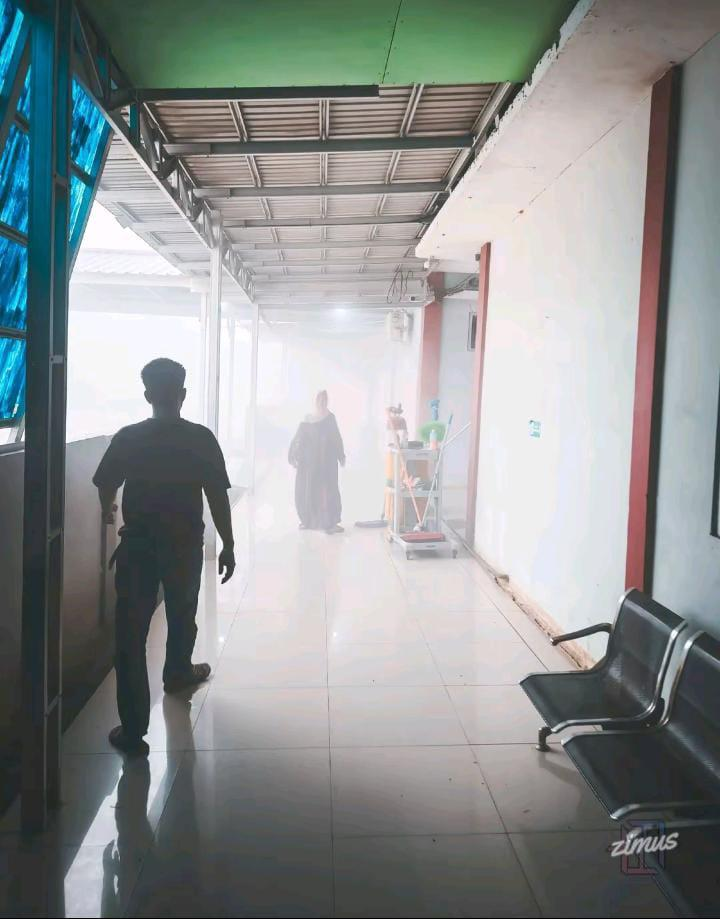Manusia: (92, 358, 236, 756), (288, 389, 346, 534)
